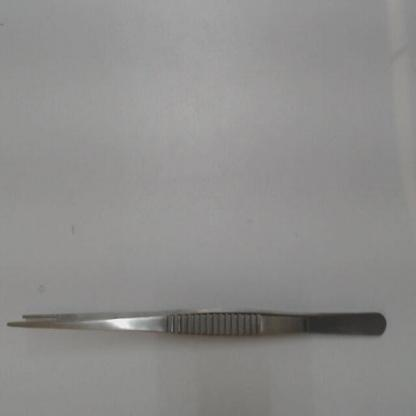DeBakey Dissector: (4, 291, 394, 366)
